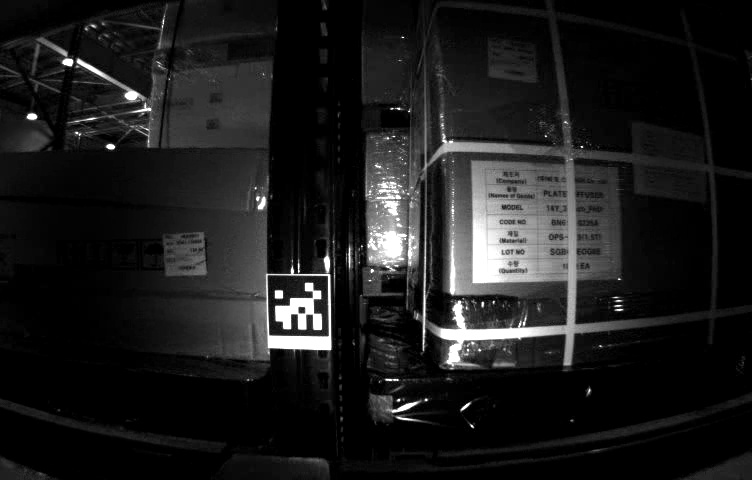True Barcode: (487, 37, 538, 81), (164, 233, 209, 278)
